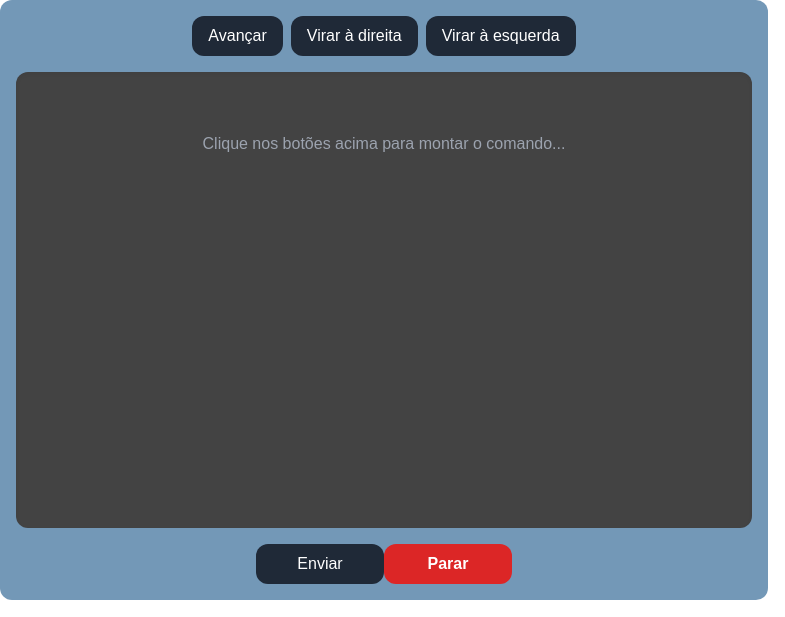
Test: CommandPanel › remove um bloco ao clicar no ×
The width and height of the screenshot is (785, 617).
Note: Adiciona um bloco e remove
Click the button "Avançar" at point(238, 36), box [192,16,283,56]
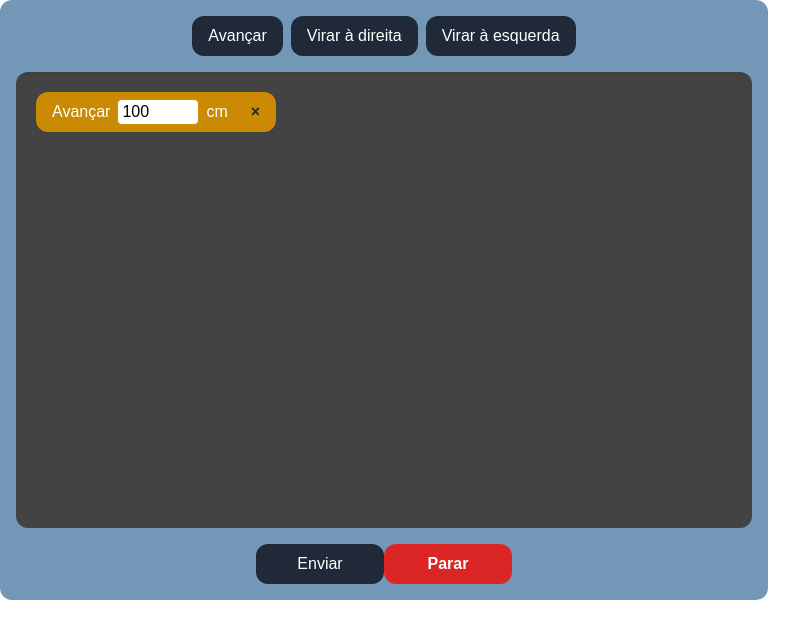
Click the button "×" at point(255, 112), box [251,100,260,124]
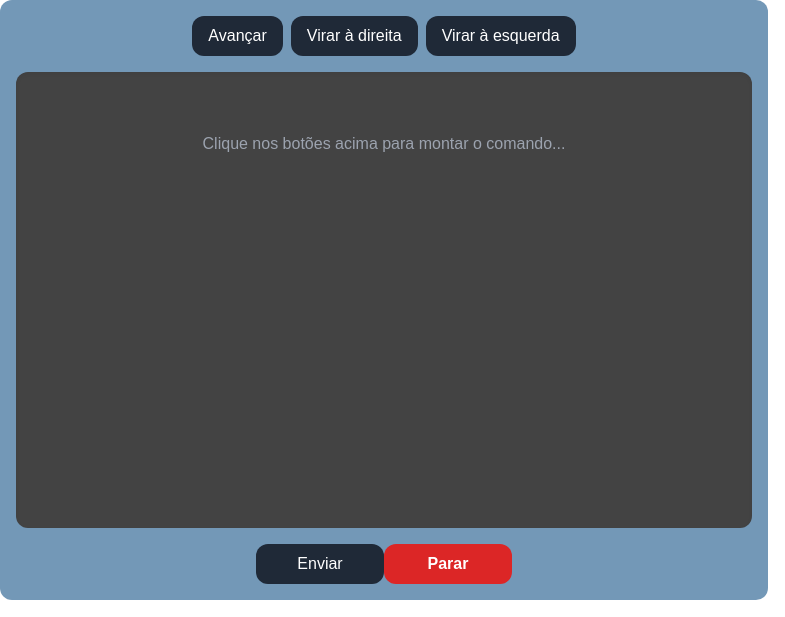
Now the element with test id "command-block-avancar-0" is gone
